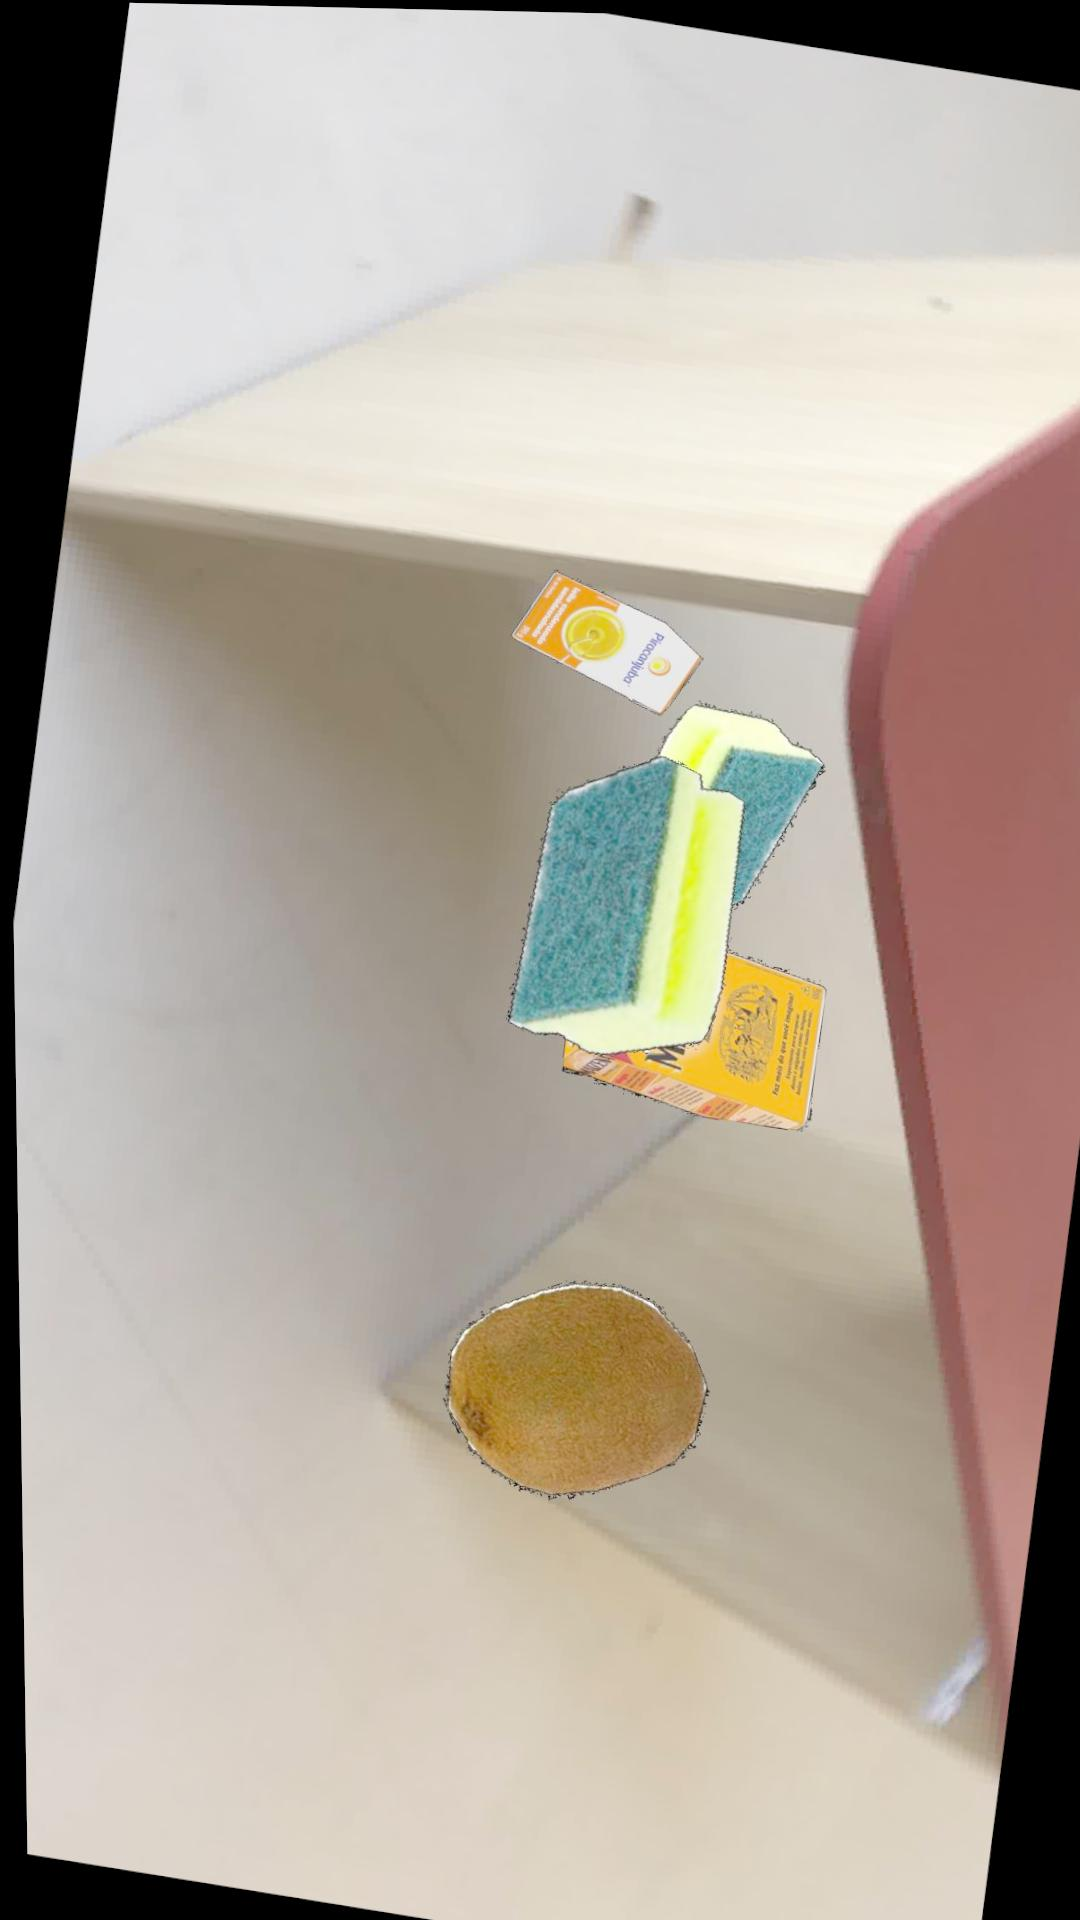kiwi: (438, 1279, 704, 1498)
sponge: (502, 753, 742, 1054), (653, 702, 822, 903)
